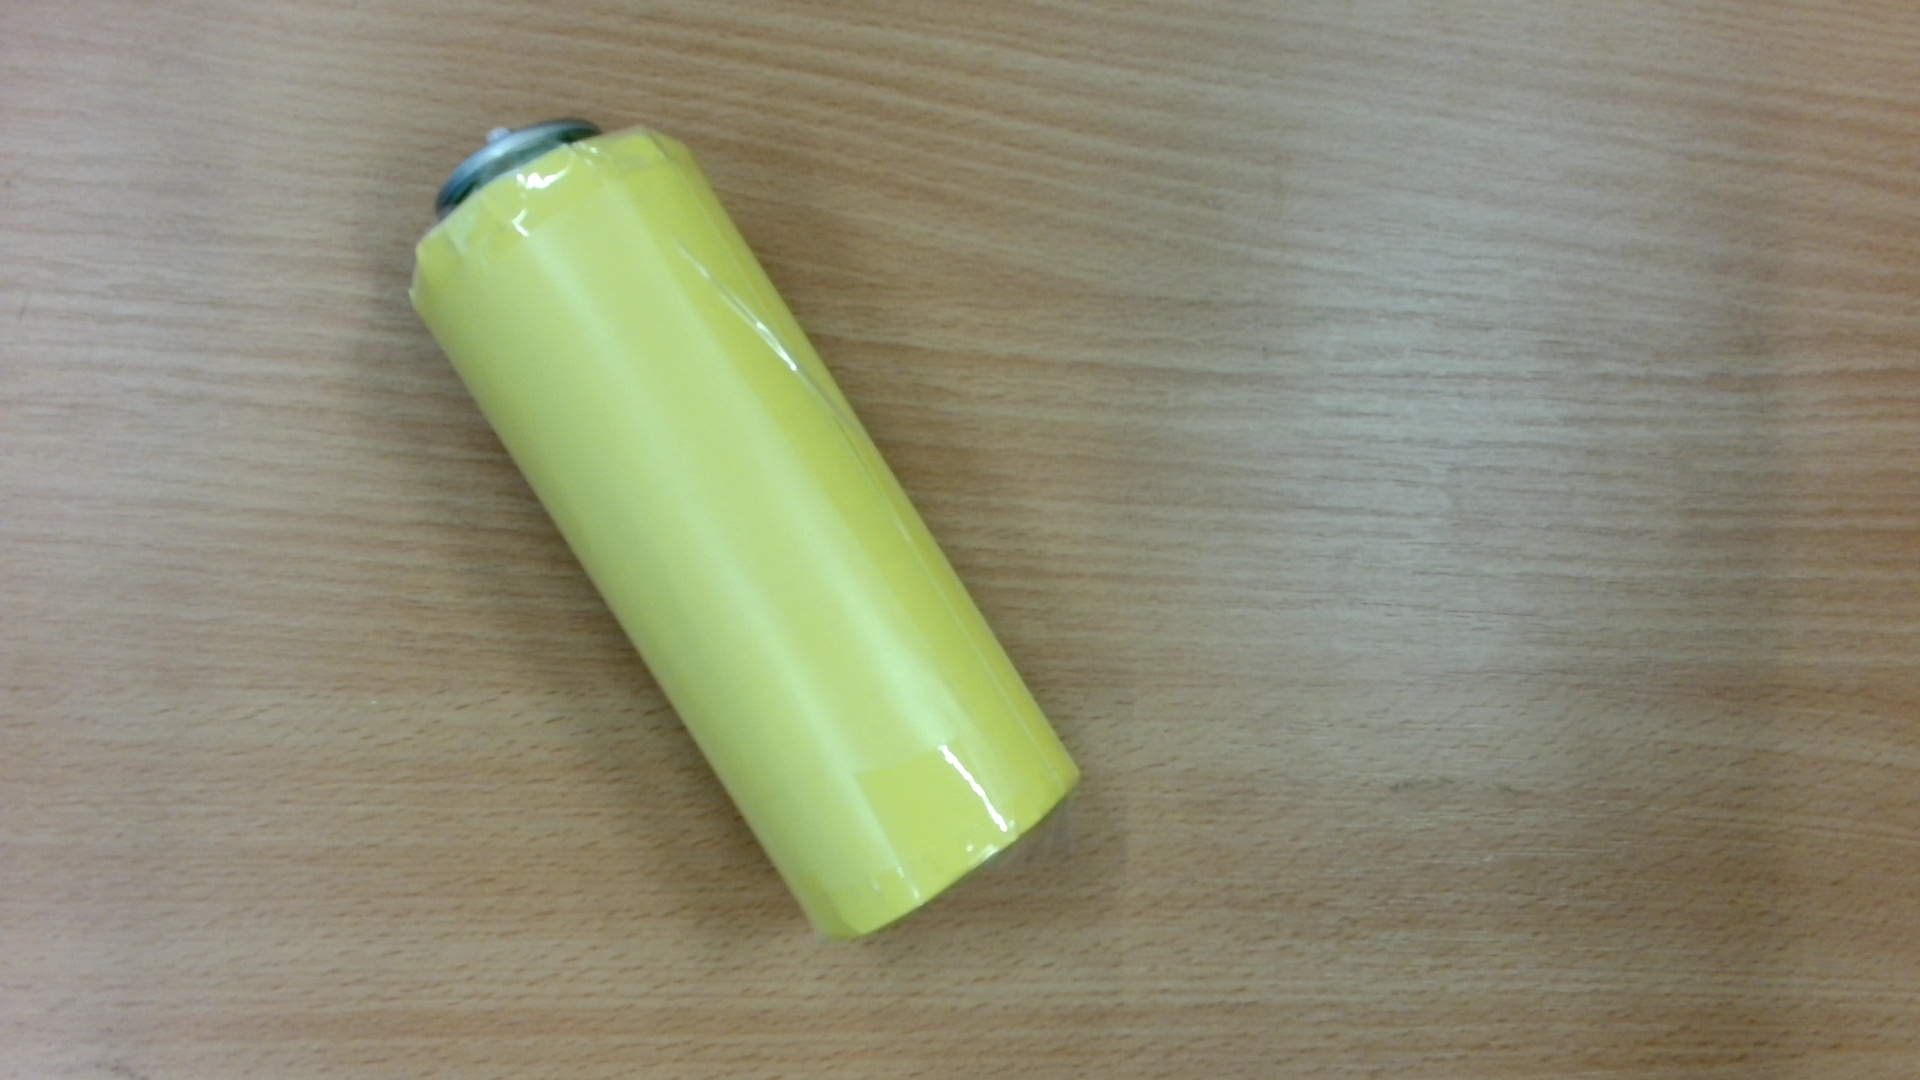Cylinder: (400, 88, 1116, 956)
